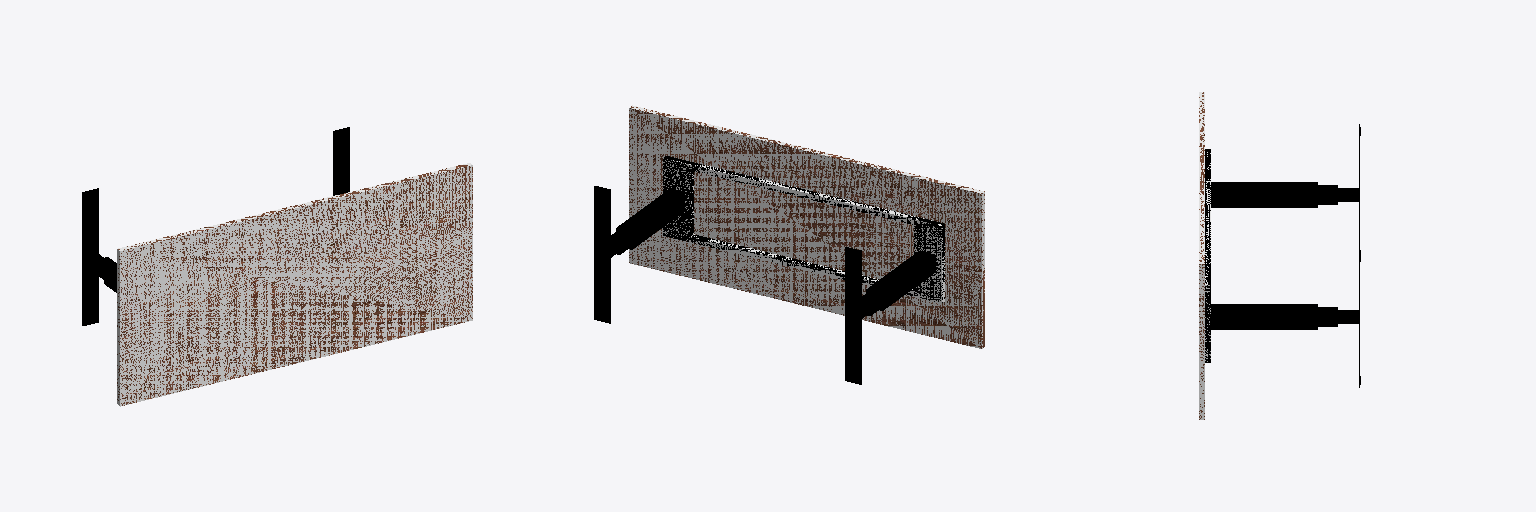
3 views of the same model, side by side, from view 1: azimuth 30°, elevation 25°; view 2: azimuth 150°, elevation 25°; view 3: azimuth 270°, elevation 25° (orthographic).
Parts seen in each view (by area): view 1: model_normalized; view 2: model_normalized; view 3: model_normalized.
Part boxes in pixels (left/top/right/bottom): model_normalized: left=82, top=127, right=472, bottom=406; model_normalized: left=594, top=105, right=984, bottom=384; model_normalized: left=1199, top=92, right=1360, bottom=419.
Size of the model in its own units: 0.8647 by 0.3641 by 0.3459.
Materials: 4 (1 with a texture image).